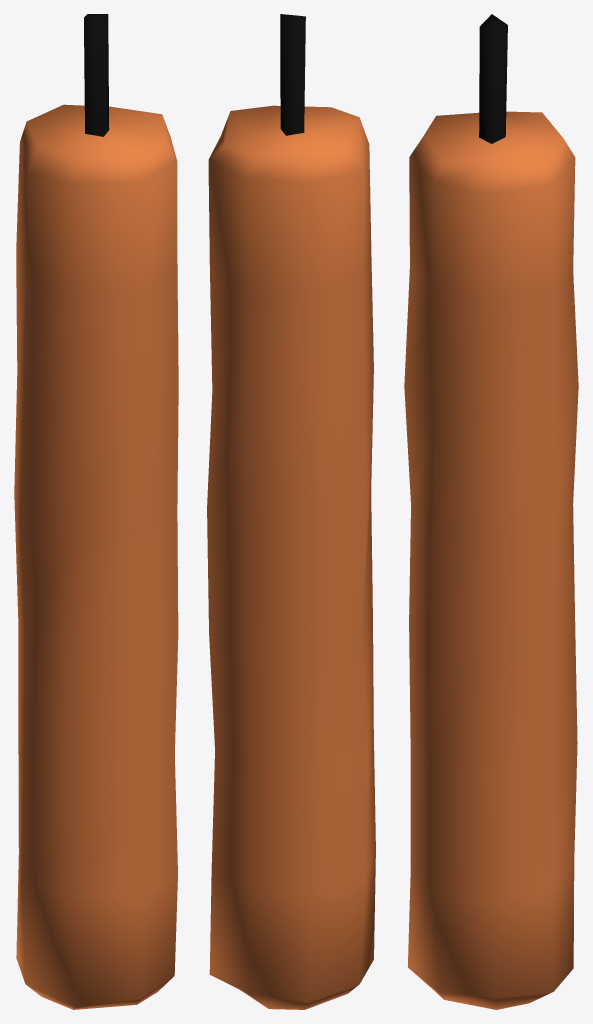
Rendered from Candle.obj.
3 renders of one model, left to right at view 1: azimuth 30°, elevation 25°; view 2: azimuth 150°, elevation 25°; view 3: azimuth 270°, elevation 25°, orthographic.
Parts seen in each view (by area): view 1: Candle; view 2: Candle; view 3: Candle.
Part boxes in pixels (x1,y1,x2,y2): Candle: [14, 14, 178, 1009]; Candle: [207, 14, 375, 1009]; Candle: [404, 14, 578, 1009].
Bounding box in the file's own units: 0.2669 × 1.63 × 0.2674.
